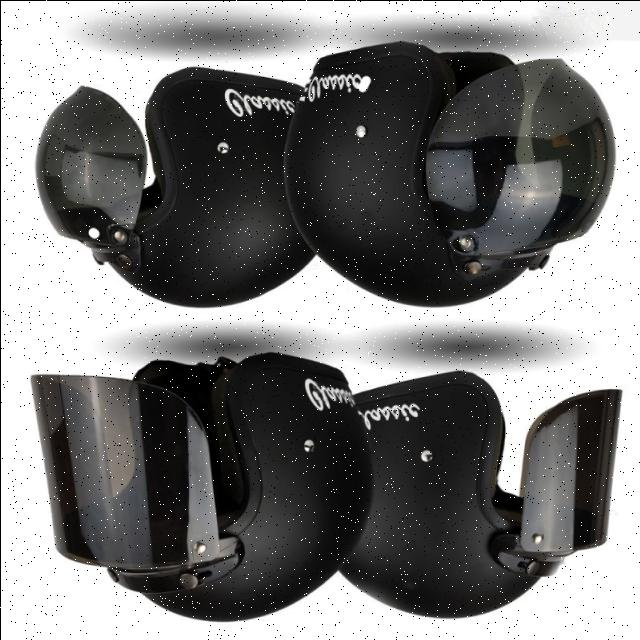Helmet: (30, 349, 618, 621), (34, 38, 616, 306)
